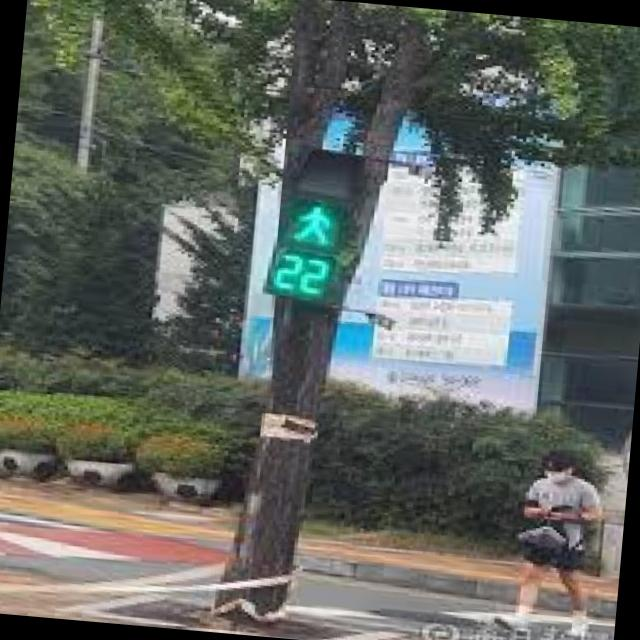green_light: (272, 198, 342, 298)
